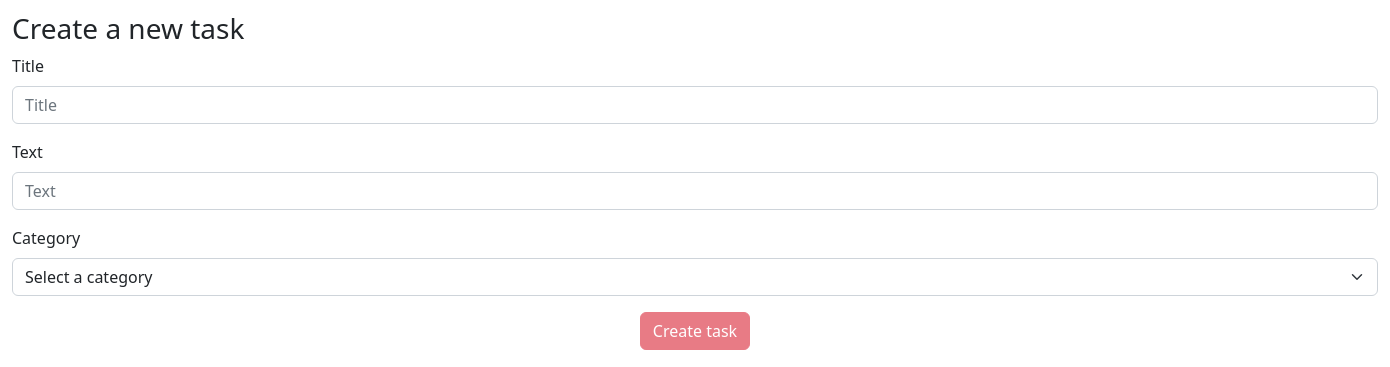
Test: FORM Component 👾 › ✅ Disable submit button after fill form component
Type "Example title" into the field with placeholder "Title" at (695, 105), box [12,86,1378,124]
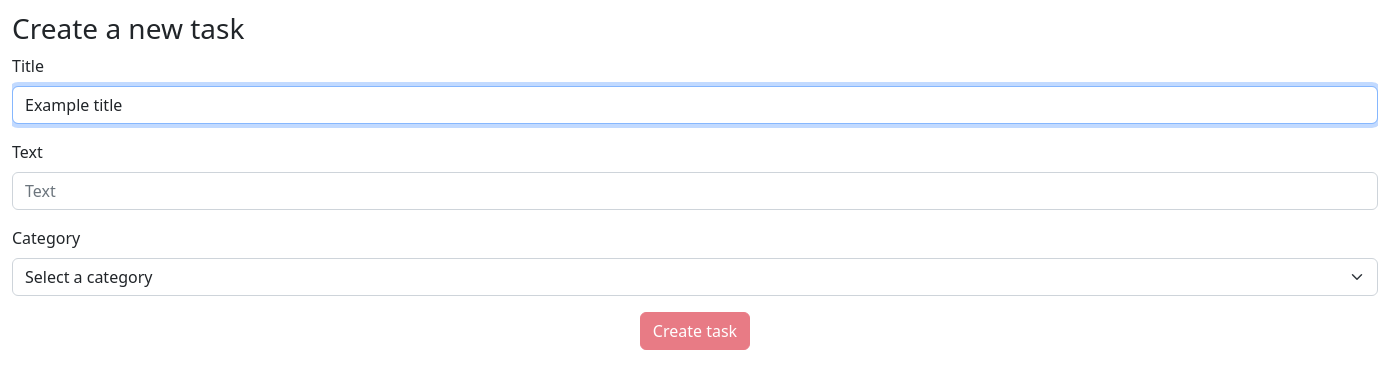
Type "Example text" into the field with placeholder "Text" at (695, 191), box [12,172,1378,210]
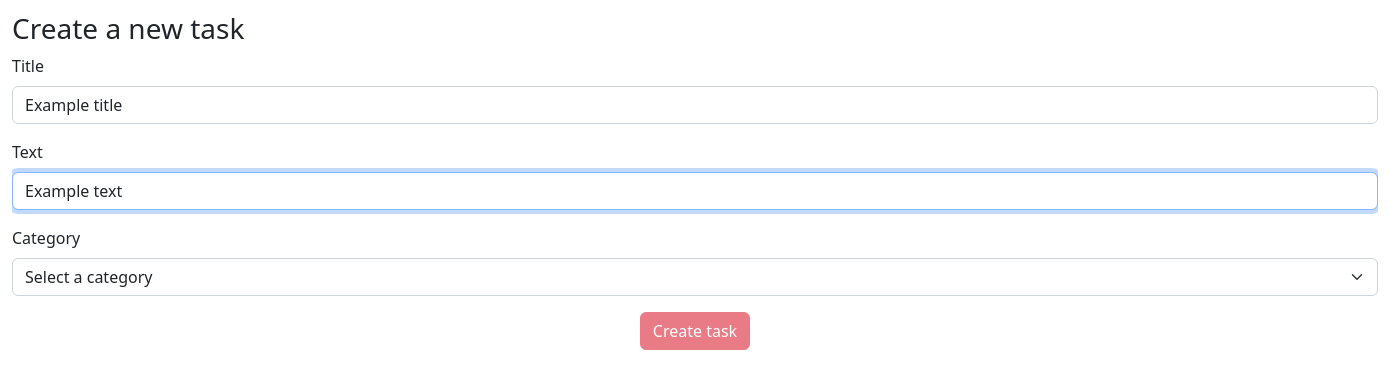
Select "House" in the dropdown at (695, 277), box [12,258,1378,296]
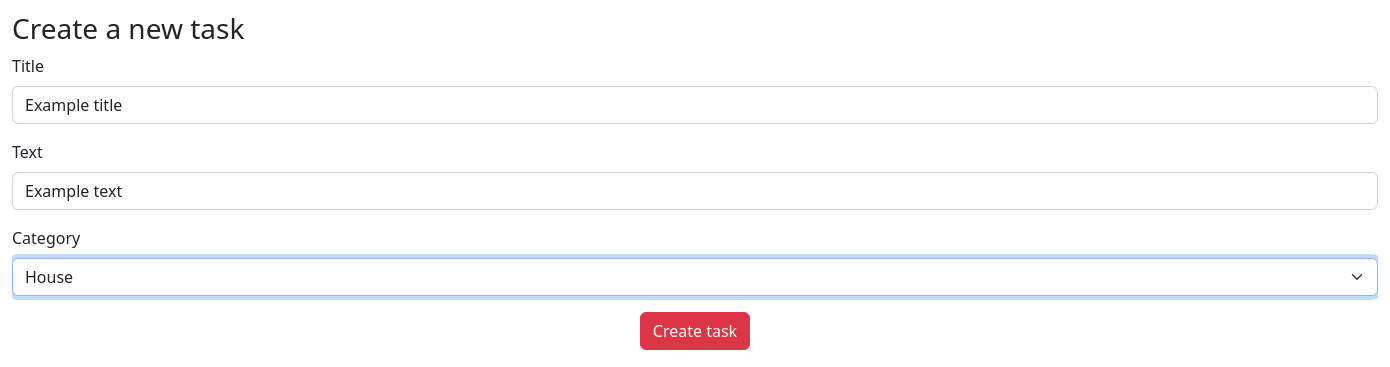
Now the button "Create task" is enabled, box [640,312,750,350]
